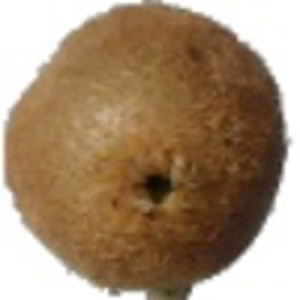kiwi: (2, 1, 289, 300)
